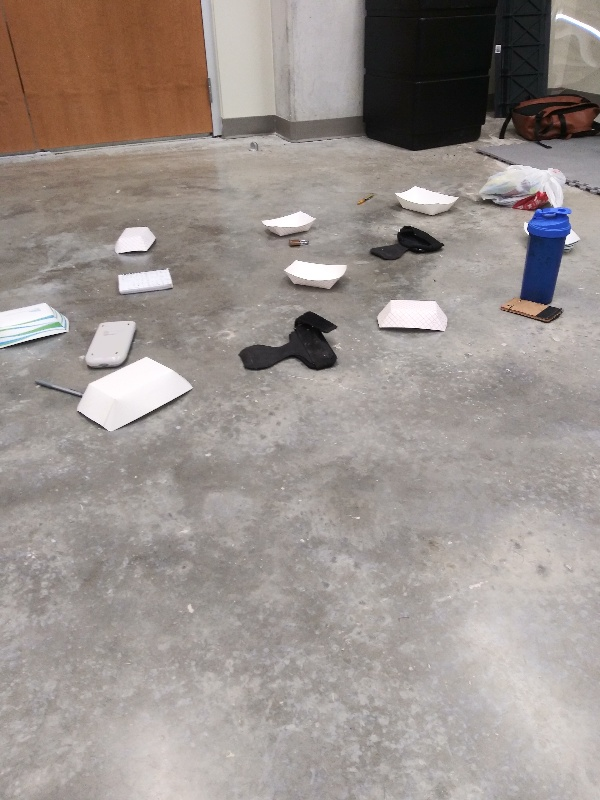plate: (73, 356, 199, 436), (1, 296, 76, 353), (372, 295, 452, 338), (387, 182, 462, 219), (281, 256, 351, 292), (259, 206, 324, 239), (110, 223, 158, 259), (562, 226, 585, 259)
